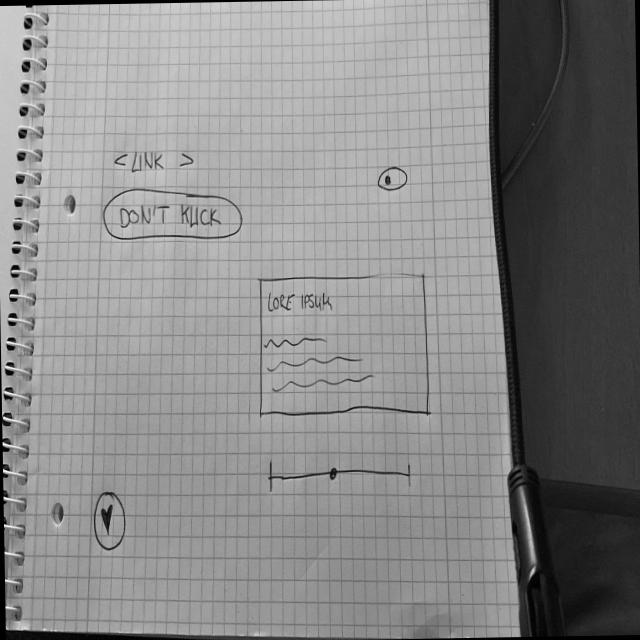button: (103, 186, 246, 245)
container: (257, 272, 436, 424)
icon-button: (93, 489, 128, 553)
label: (266, 285, 336, 318)
link: (113, 147, 195, 176)
slider: (266, 455, 414, 498)
textbox: (266, 334, 381, 396)
toggle: (377, 164, 409, 194)
